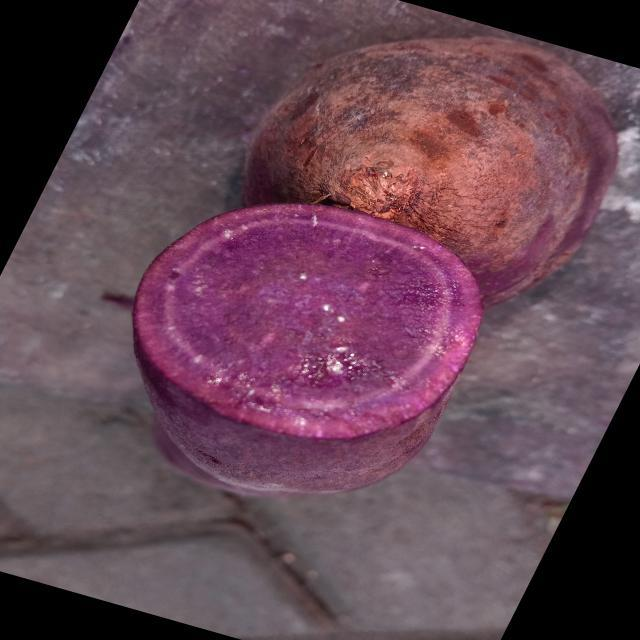Healthy Sweet Potato: (133, 204, 483, 439)
